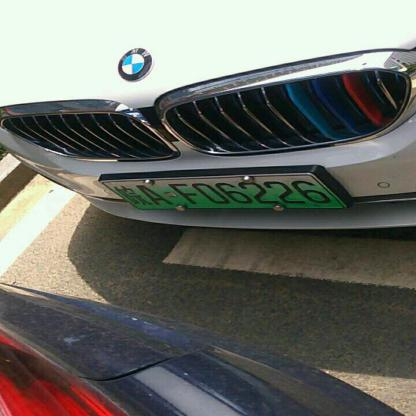lp: (100, 174, 344, 210)
